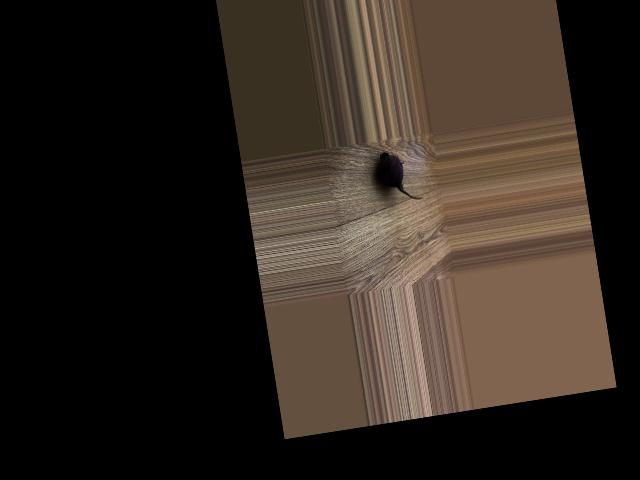beet: (376, 148, 422, 206)
